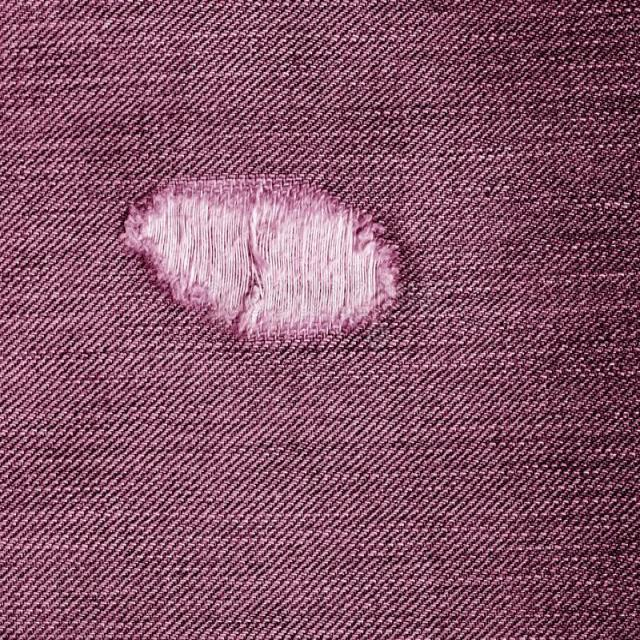Hole: (121, 178, 397, 339)
